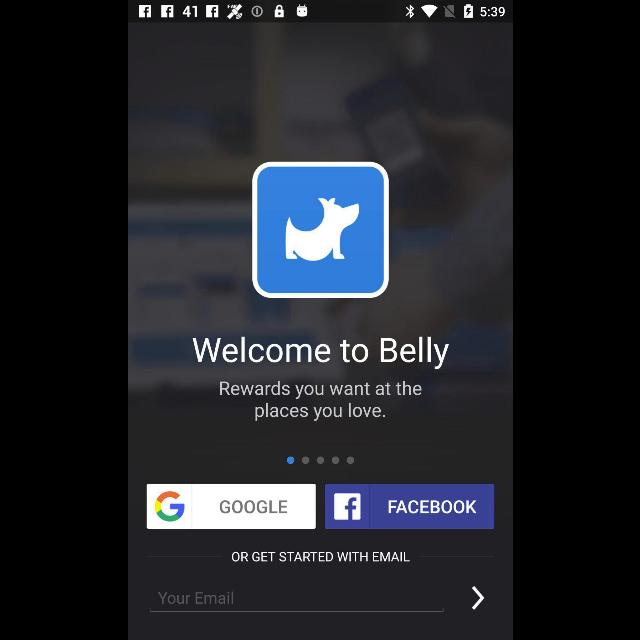icon: (471, 586, 484, 610)
image: (252, 162, 388, 298)
input: (150, 592, 442, 612)
pageindicator: (286, 456, 354, 464)
text: (192, 336, 448, 370), (218, 380, 422, 422), (230, 552, 410, 562), (157, 592, 233, 604)
textbutton: (324, 484, 493, 528), (146, 484, 314, 528)
uppertaskbar: (128, 1, 512, 23)
